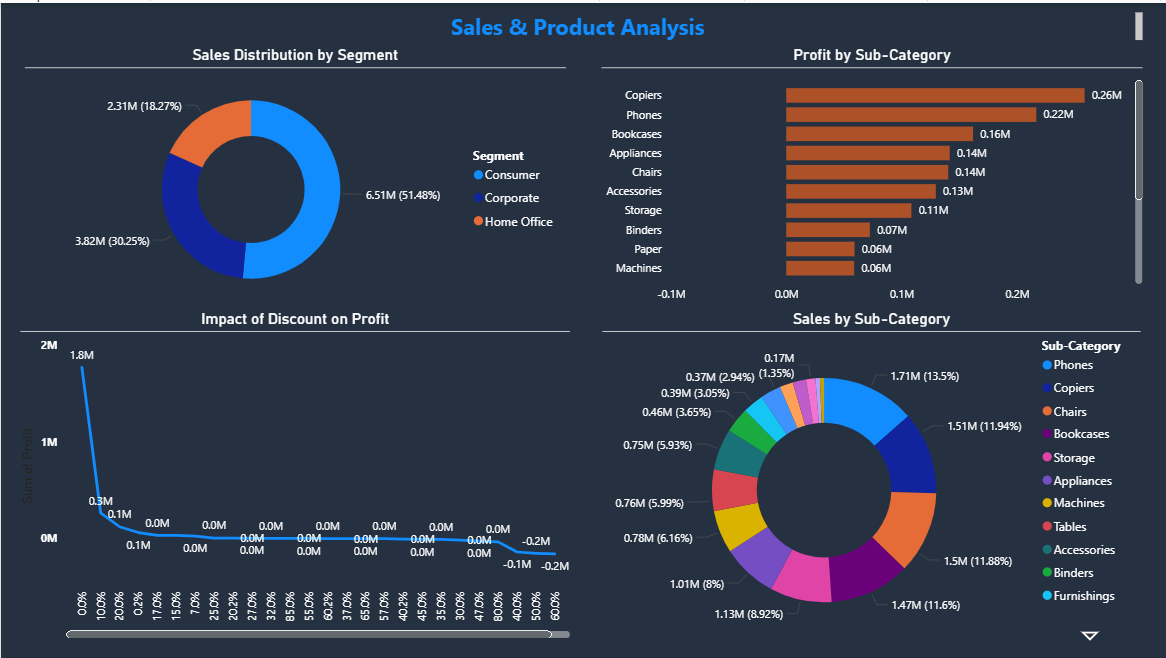

This screenshot's page, from the dashboard's own definition file:
{"tool":"powerbi","page":{"name":"Page 2","canvas":[1280,720],"ordinal":1},"visuals":[{"type":"donutChart","title":"Sales Distribution by Segment","fields":{"Y":["Sum(archive (10).Sales)"],"Category":["archive (10).Segment"]},"box":[26.1,46.7,594.2,289.5],"z":0},{"type":"barChart","title":"Profit by Sub-Category","fields":{"Category":["archive (10).Sub-Category"],"Y":["Sum(archive (10).Profit)"]},"box":[654.5,46.7,603.8,289.5],"z":1000},{"type":"lineChart","title":"Impact of Discount on Profit","fields":{"Category":["archive (10).Discount"],"Y":["Sum(archive (10).Profit)"]},"box":[16.5,336.2,613.4,365],"z":2000},{"type":"donutChart","title":"Sales by Sub-Category","fields":{"Category":["archive (10).Sub-Category"],"Y":["Sum(archive (10).Sales)"]},"box":[660,336.2,591.4,370.5],"z":3000},{"type":"textbox","box":[16.5,5.5,1241.9,41.2],"z":3001}]}

Visuals, with their boxes in screenshot pixels (x1, y1, x2, y2), scaled from the page's 1280x720 canvas onto the 1166x658 screenshot:
"Sales Distribution by Segment" donutChart: l=24, t=43, r=565, b=307
"Profit by Sub-Category" barChart: l=596, t=43, r=1146, b=307
"Impact of Discount on Profit" lineChart: l=15, t=307, r=574, b=641
"Sales by Sub-Category" donutChart: l=601, t=307, r=1140, b=646
textbox: l=15, t=5, r=1146, b=43
